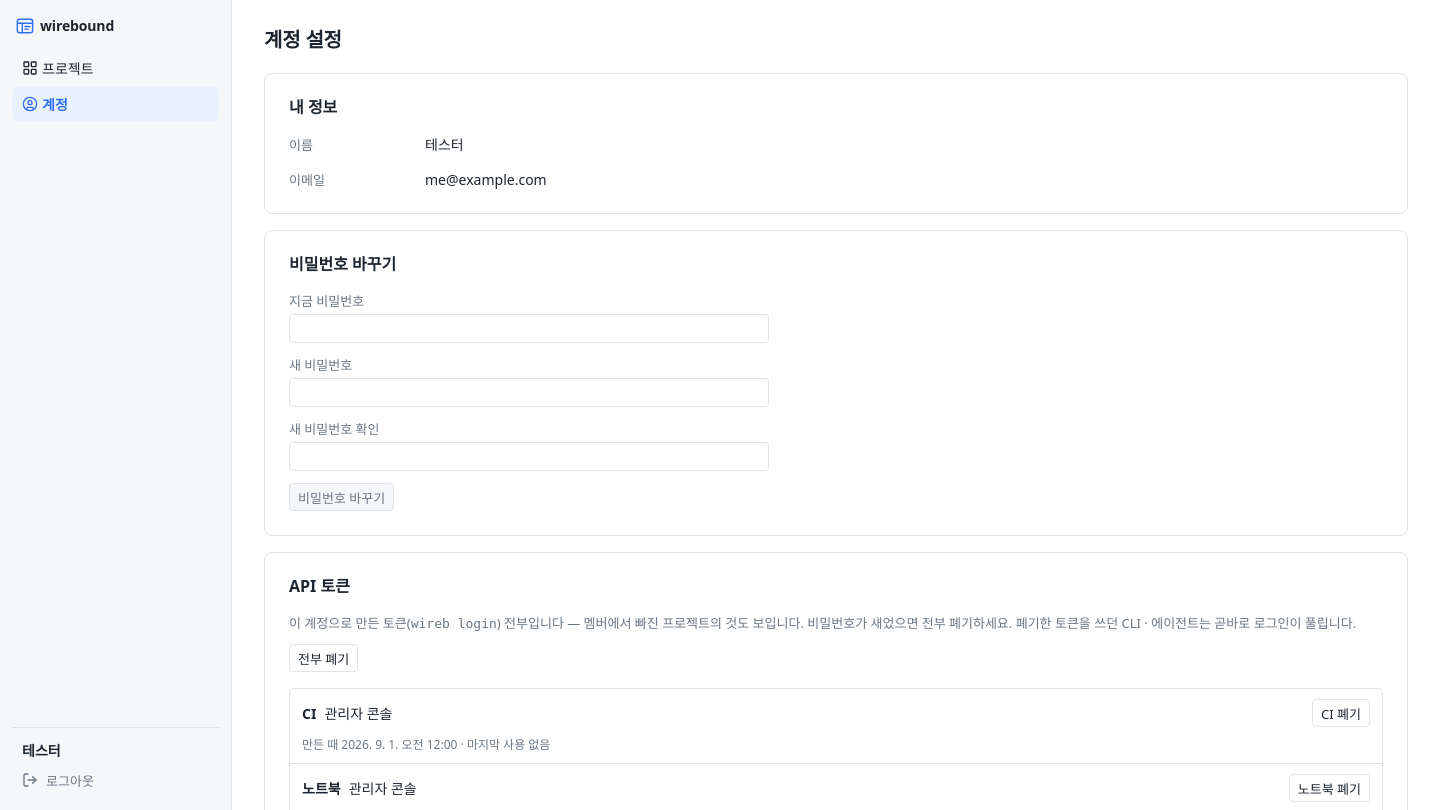
Test: API 토큰 절 › 하나 폐기 — 첫 누름은 확인만 열고, 확정하면 그 id 로 한 번 부른 뒤 목록을 다시 받는다
This screenshot has width=1440, height=810.
Step 1. Click the button "CI 폐기" → (1341, 713), box [1312,699,1370,727]
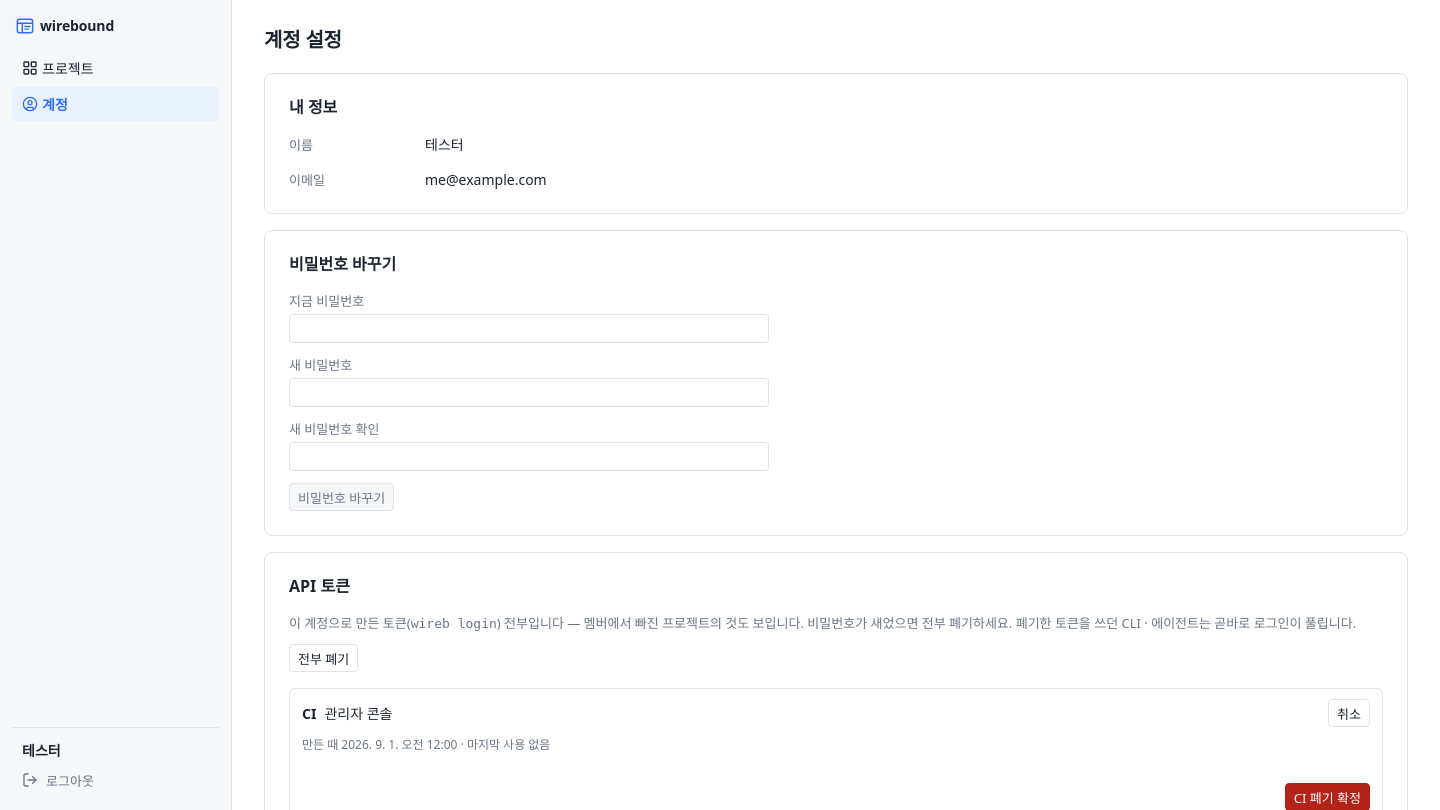
Step 2. Click the button "CI 폐기 확정" → (1327, 797), box [1285,783,1370,809]
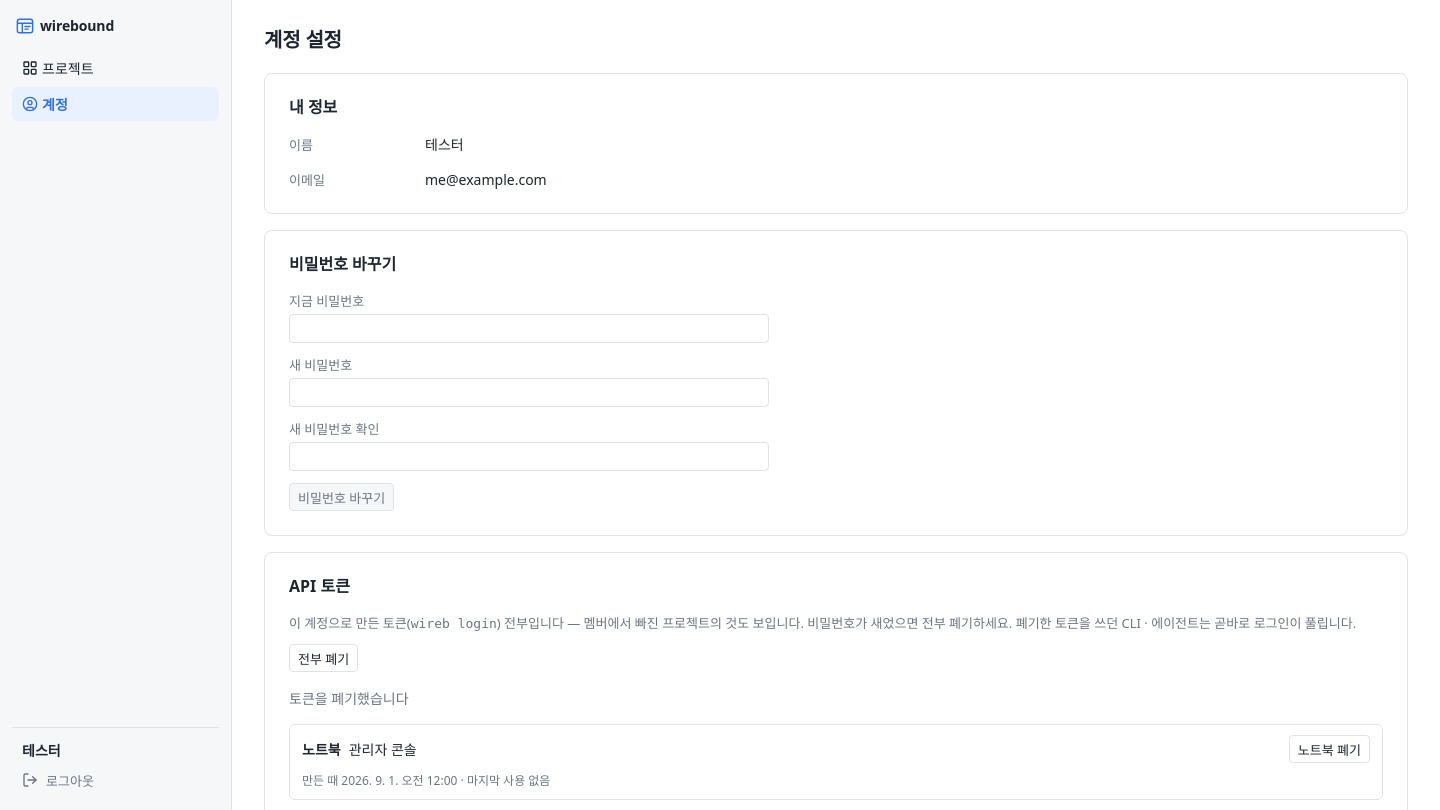
Result: the text "CI" is gone
Result: the text "노트북" is shown at [302,738,341,758]
Result: the text "토큰을 폐기했습니다" is shown at [289,689,409,708]
